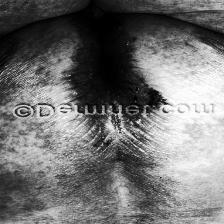Non-Cancerous Skin Condition: (64, 122, 176, 222), (58, 22, 172, 98)
